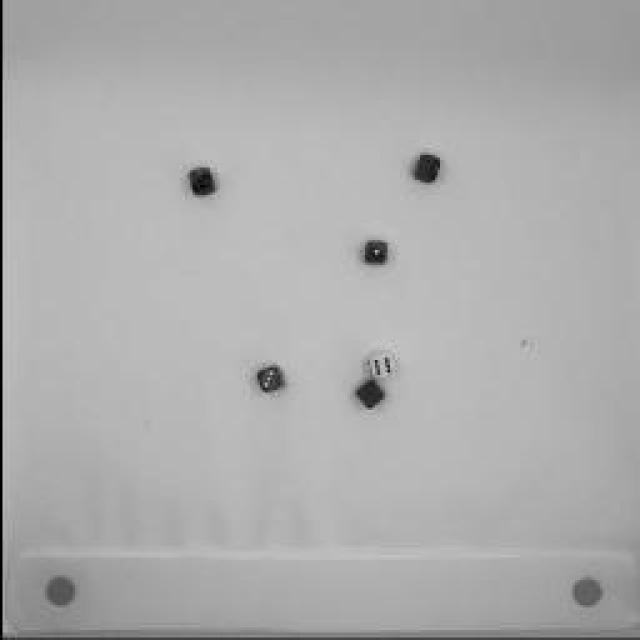dice_1: (356, 235, 392, 270)
dice_3: (252, 365, 282, 397)
dice_5: (183, 165, 215, 197)
dice_6: (405, 150, 447, 185), (359, 352, 399, 386), (350, 380, 385, 415)
